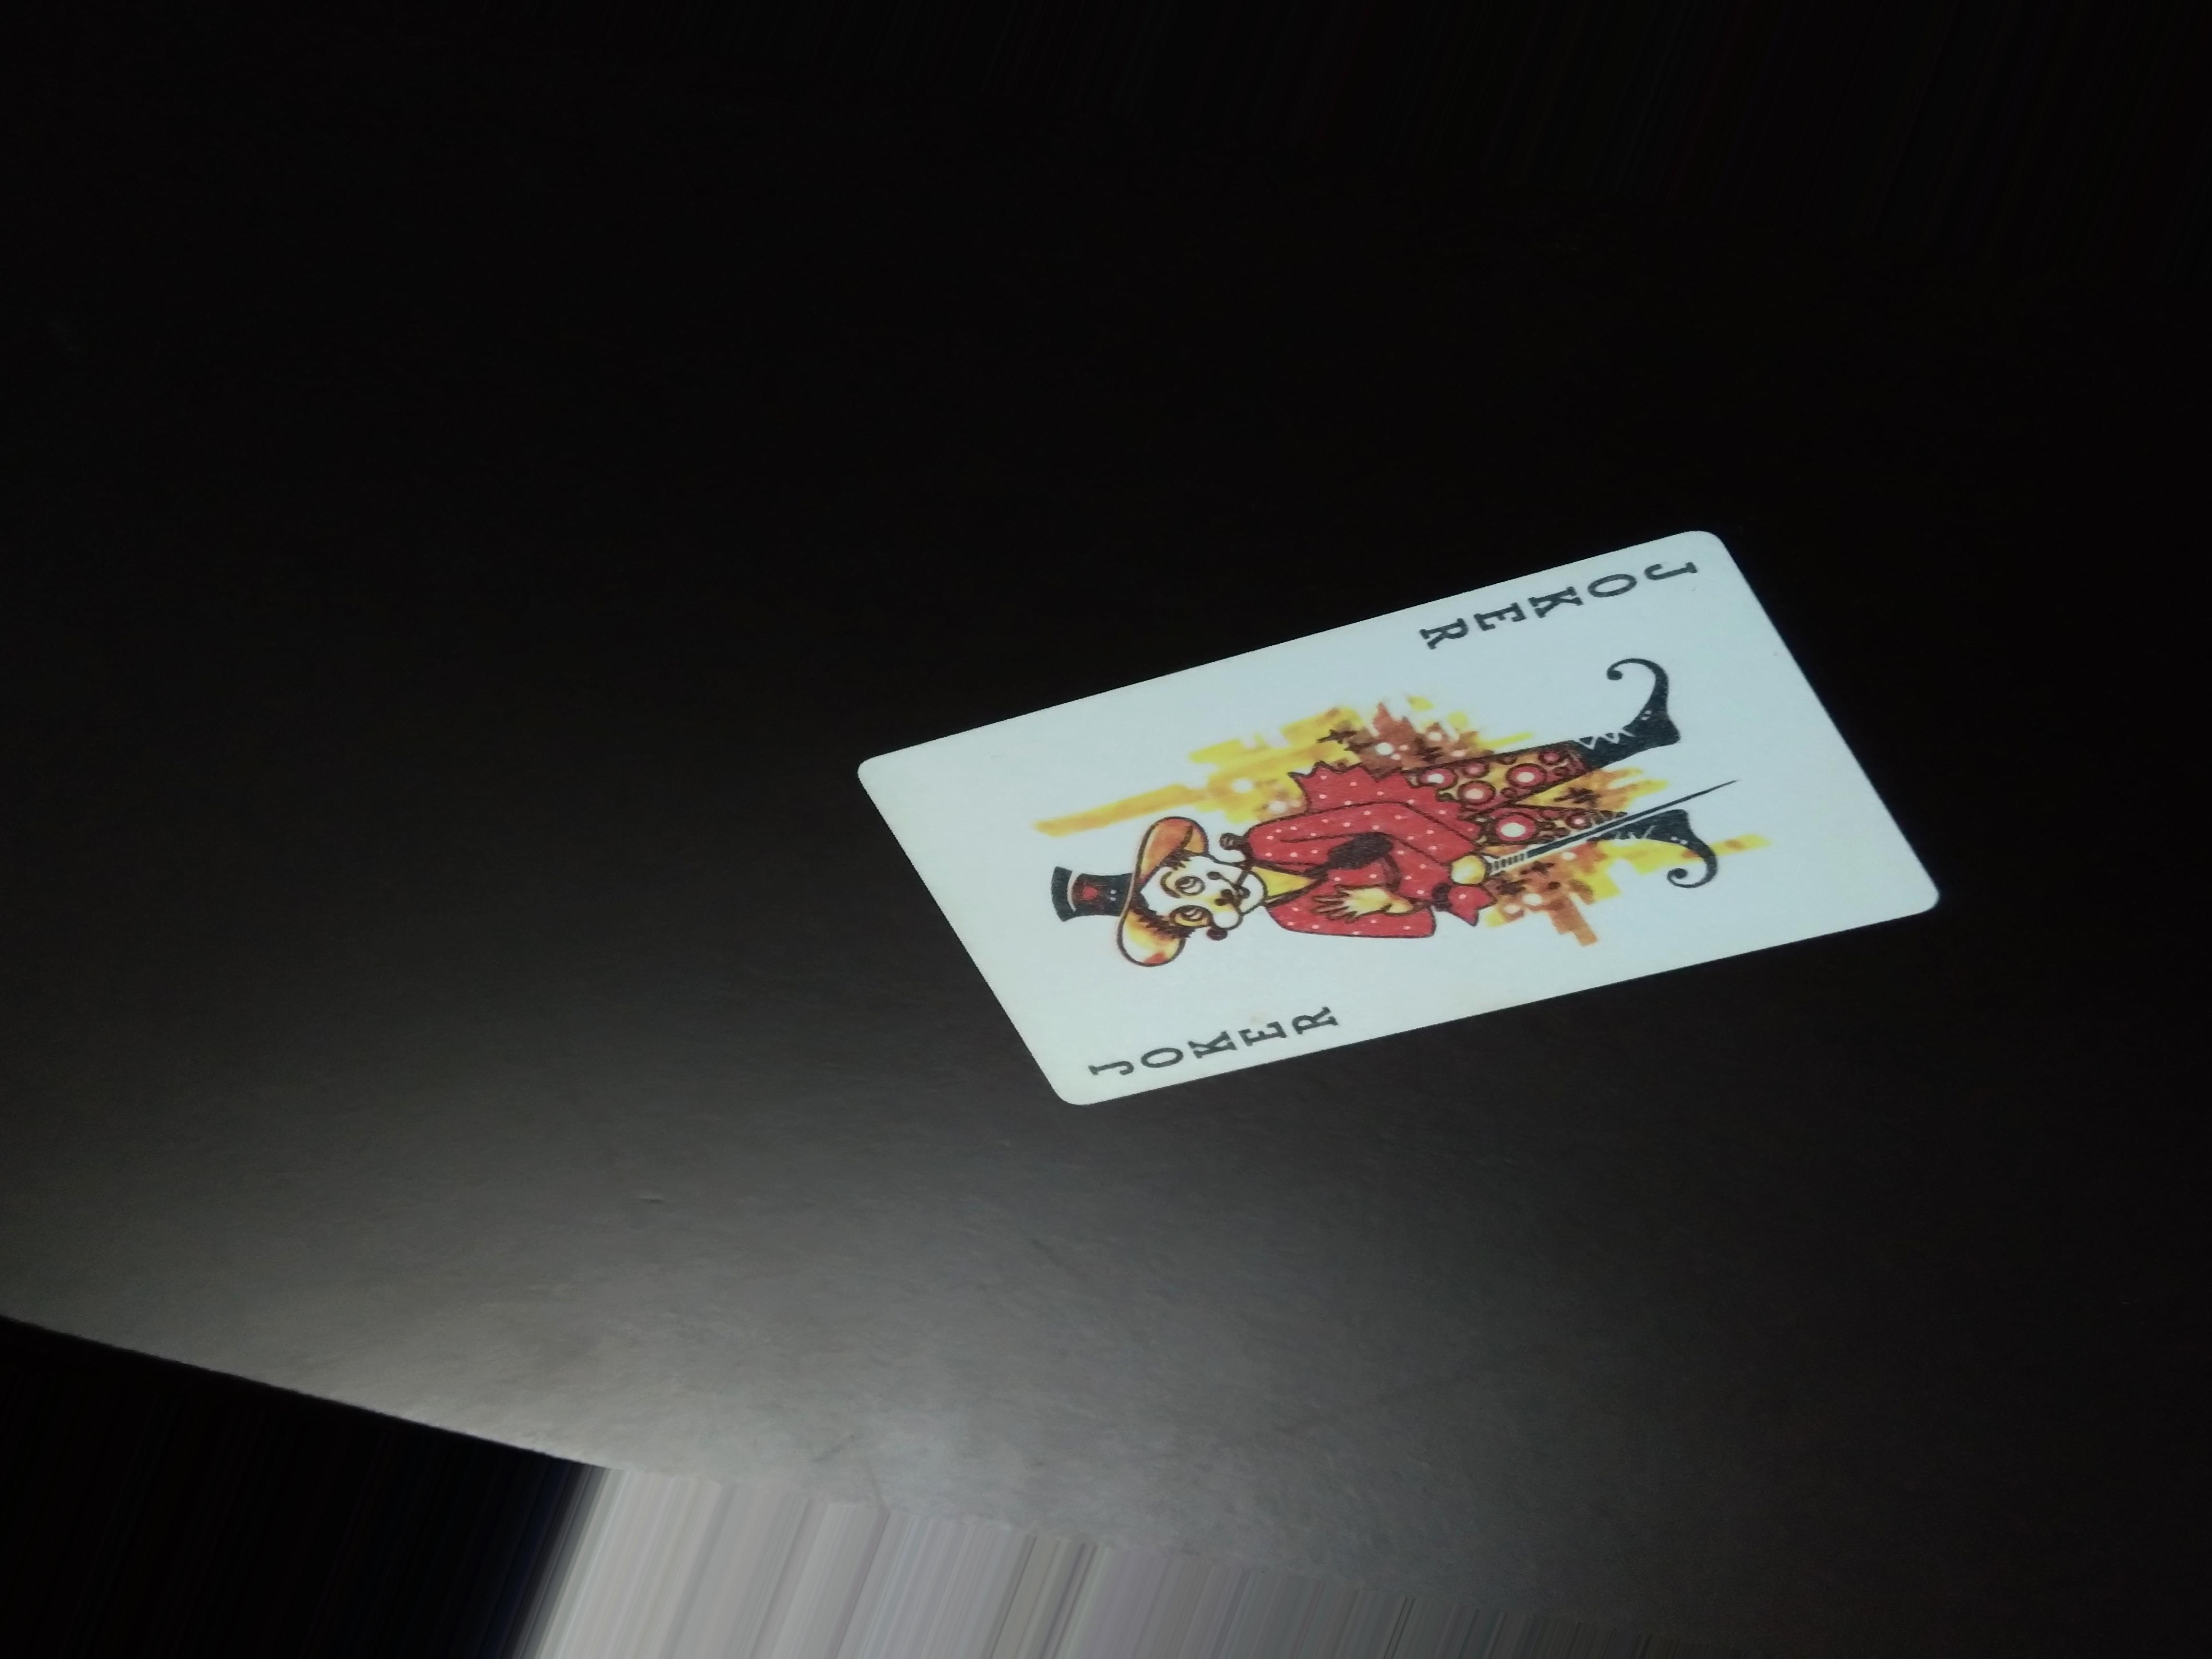JOKER: (1395, 516, 1742, 659)
